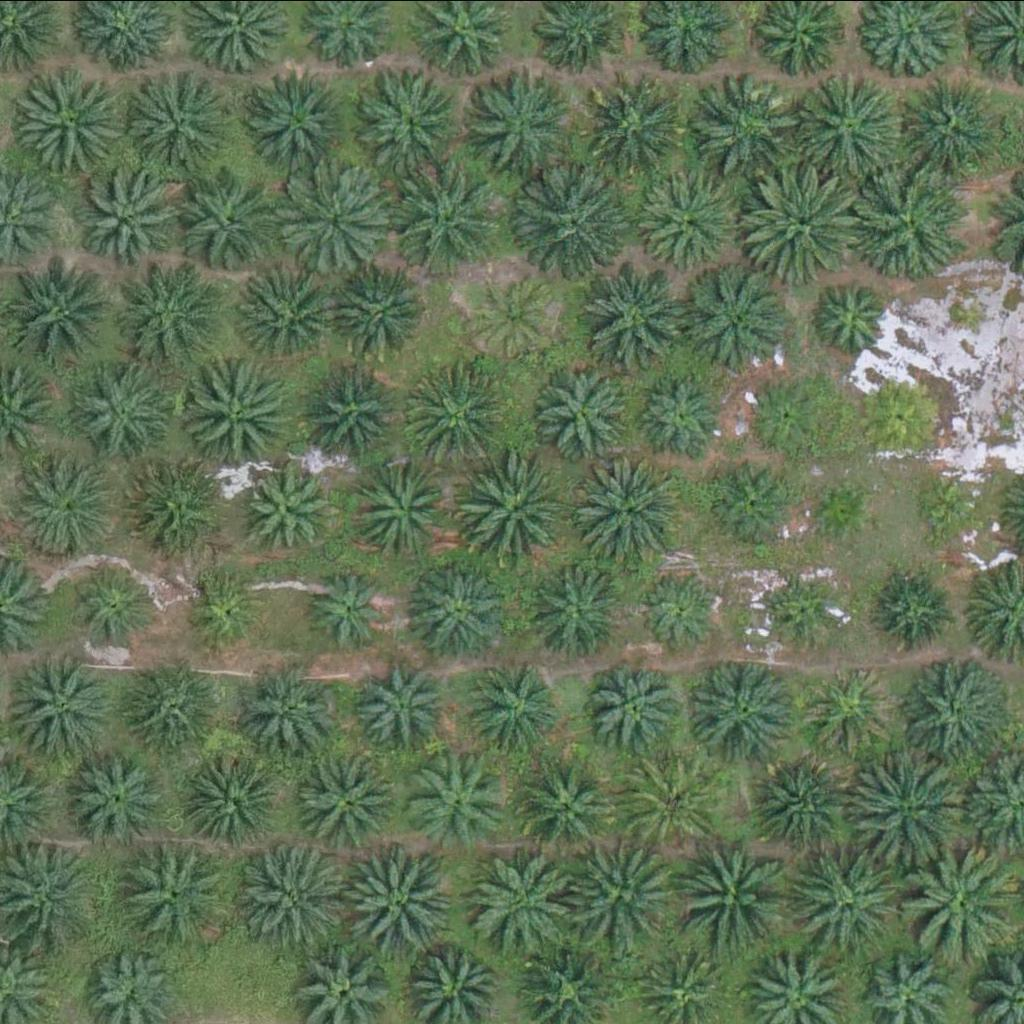Kelapa_Sawit: (125, 835, 239, 948), (793, 848, 907, 961), (393, 165, 507, 278), (565, 839, 679, 952), (237, 842, 350, 955), (179, 364, 292, 477), (17, 65, 130, 178), (850, 162, 963, 275), (686, 72, 799, 185), (519, 165, 632, 278), (572, 455, 685, 568), (460, 454, 573, 567), (473, 845, 586, 958), (344, 839, 457, 952), (787, 70, 901, 182), (739, 168, 853, 280), (668, 838, 782, 950), (6, 649, 119, 761), (6, 445, 119, 557), (6, 256, 119, 368), (278, 165, 391, 277), (121, 64, 234, 176), (907, 847, 1020, 959), (855, 757, 968, 869), (896, 654, 1009, 766), (402, 357, 515, 469), (686, 655, 799, 767), (585, 259, 698, 371), (678, 264, 791, 376), (182, 744, 283, 844), (65, 744, 166, 844), (129, 660, 230, 760), (238, 655, 339, 755), (125, 445, 226, 545), (72, 363, 173, 463), (301, 372, 402, 472), (232, 269, 333, 369), (132, 259, 233, 359), (75, 168, 176, 268), (240, 70, 341, 170), (640, 169, 741, 269), (534, 364, 635, 464), (353, 460, 454, 560), (413, 562, 514, 662), (526, 560, 627, 660), (585, 658, 686, 758), (403, 752, 504, 852), (513, 755, 614, 855), (296, 748, 396, 848), (182, 175, 282, 275), (756, 754, 856, 854), (898, 71, 998, 171), (359, 70, 459, 170), (476, 70, 576, 170), (589, 78, 689, 178), (329, 268, 429, 368), (622, 749, 722, 849), (854, 372, 943, 460), (177, 563, 265, 651), (64, 563, 152, 651), (245, 468, 333, 556), (741, 372, 829, 460), (472, 271, 560, 359), (639, 567, 727, 655), (471, 664, 559, 752), (362, 665, 450, 753), (637, 371, 726, 458), (309, 569, 397, 656), (804, 665, 892, 752), (868, 566, 956, 653), (809, 277, 897, 364), (711, 462, 799, 549), (803, 474, 879, 549), (911, 470, 987, 545), (774, 568, 849, 643)
